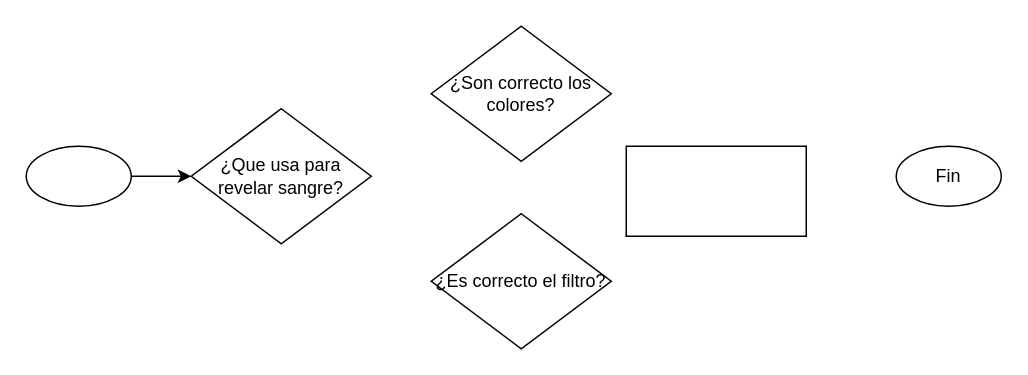
Some shapes in this 1028 by 375 pixel diagram are drawn without their labels. The centre of each missing label's shape, as x and y in pixels:
"Inicio" goes at point (78, 175).
"Revelar sangre" goes at point (715, 190).
